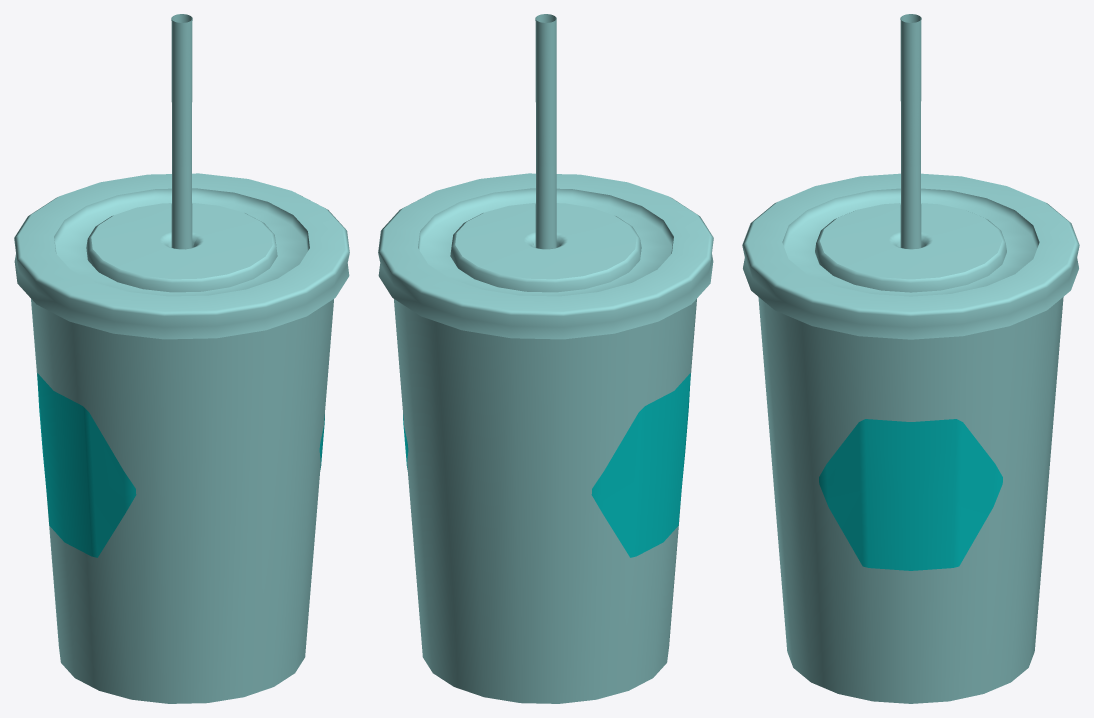
File: Hachimi.fbx
The picture shows the model from 3 angles, left to right: view 1: azimuth 30°, elevation 25°; view 2: azimuth 150°, elevation 25°; view 3: azimuth 270°, elevation 25°; orthographic projection.
Parts seen in each view (by area): view 1: M_Prop.001; view 2: M_Prop.001; view 3: M_Prop.001.
Boxes of the visible parts, box(x1,y1,x2,y2) form: M_Prop.001: box(14, 14, 349, 703); M_Prop.001: box(378, 14, 713, 703); M_Prop.001: box(742, 14, 1079, 703).
Bounding box in the file's own units: 0.0464 × 0.0961 × 0.0464.
